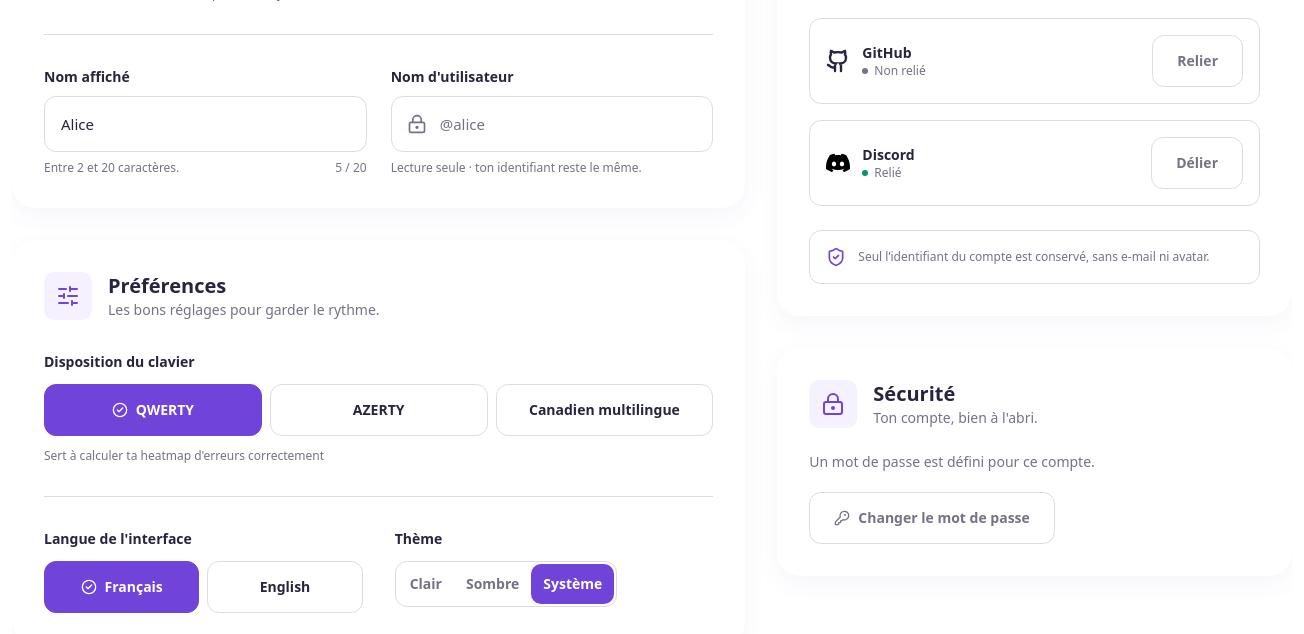
Scenario: ProfileForm (fr) › « Annuler » rétablit les valeurs d'origine
Replace the text in the field labelled "Nom affiché" with "Autre" at coordinates (205, 124), box [44, 96, 367, 152]
(page scrolled)
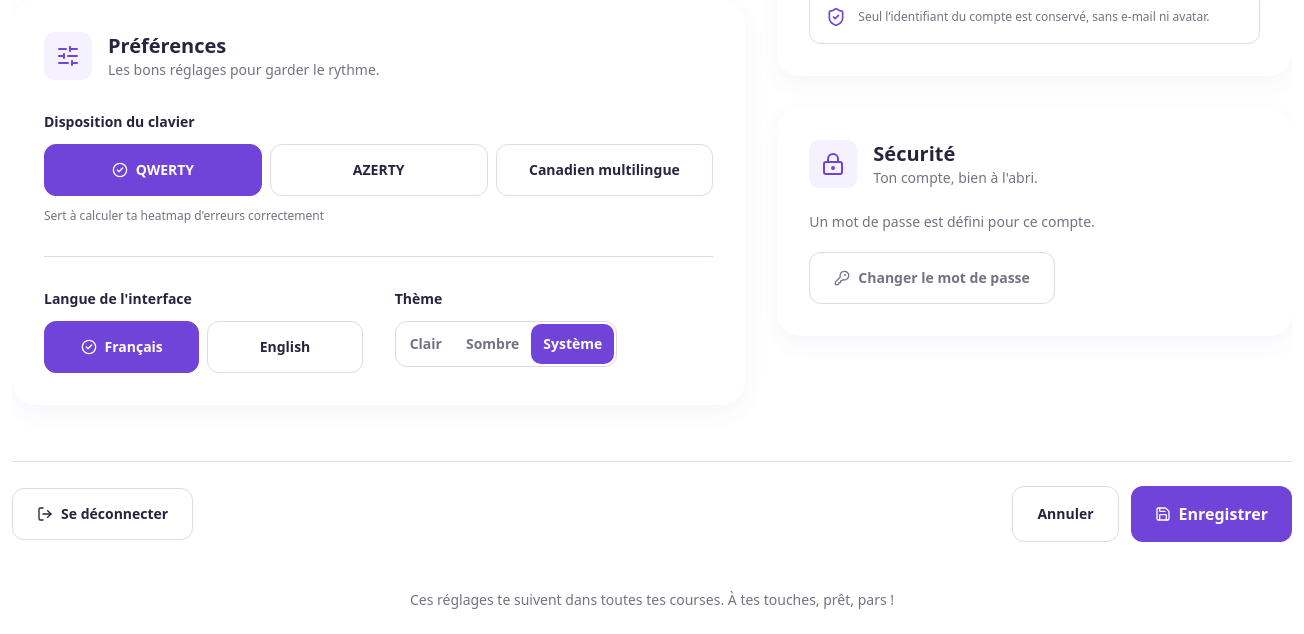
Click the button "Annuler" at coordinates (1066, 514), box [1012, 486, 1119, 542]
(page scrolled)
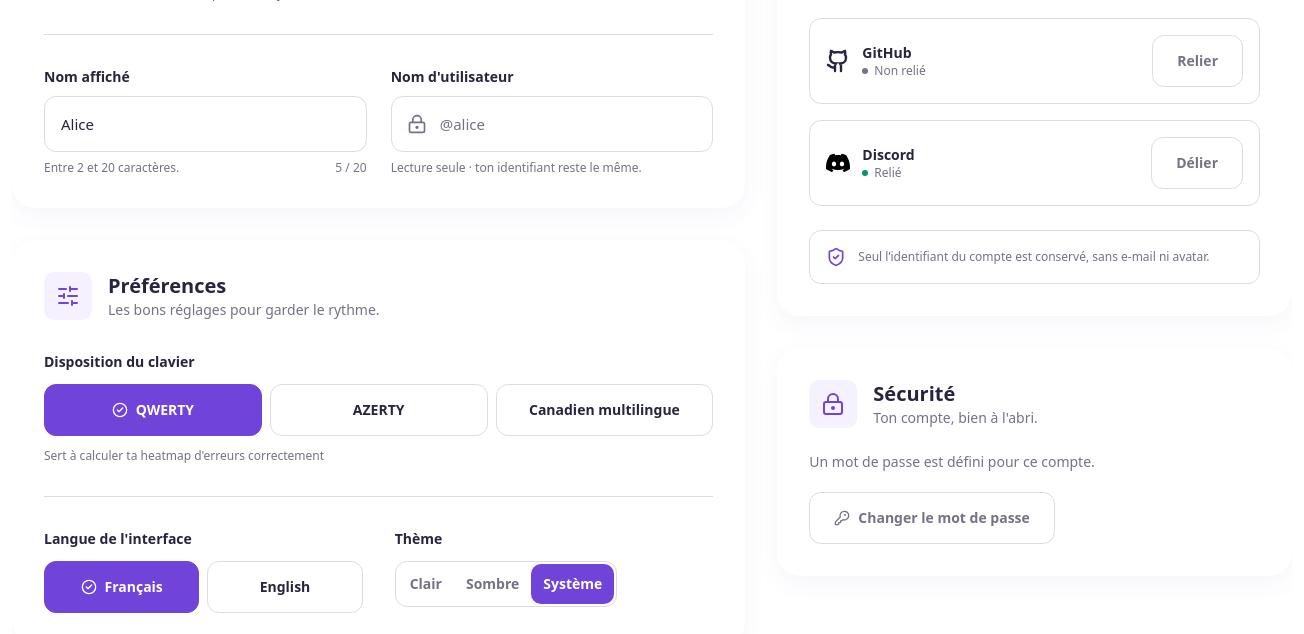
Expected: the field labelled "Nom affiché" holds "Alice", [44, 96, 367, 152]
